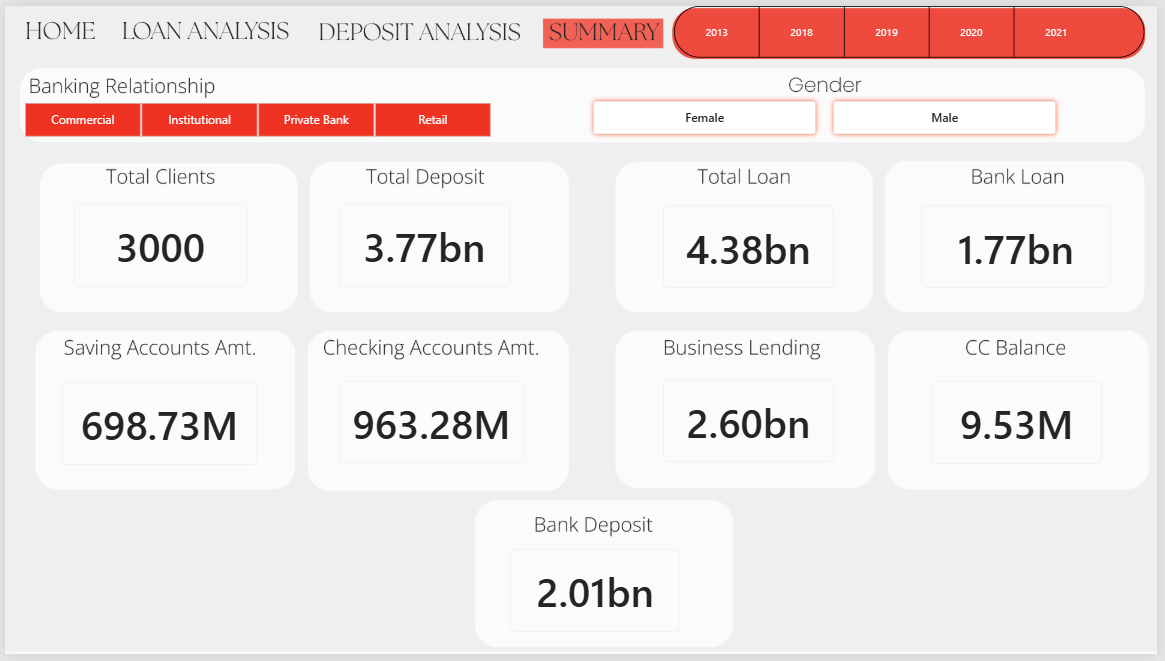

Layout of this report page (visuals, bound fields, positions):
{"tool":"powerbi","page":{"name":"Summary","canvas":[1920,1080],"ordinal":3},"visuals":[{"type":"card","fields":{"Values":["CountNonNull(banking_case customer.Name)"]},"box":[113.9,330.6,288.9,138.9],"z":0},{"type":"card","fields":{"Values":["banking_case customer.total deposit"]},"box":[558.3,330.6,283.3,137.5],"z":1},{"type":"card","fields":{"Values":["banking_case customer.tatal loan"]},"box":[1097.2,333.3,283.3,137.5],"z":2},{"type":"card","fields":{"Values":["Sum(banking_case customer.Business Lending)"]},"box":[1097.2,622.2,283.3,137.5],"z":3},{"type":"card","fields":{"Values":["Sum(banking_case customer.Credit Card Balance)"]},"box":[1544.4,625,282.5,137.5],"z":4},{"type":"card","fields":{"Values":["Sum(banking_case customer.Bank Loans)"]},"box":[1527.8,333.3,315,137.5],"z":5},{"type":"card","fields":{"Values":["Sum(banking_case customer.Saving Accounts)"]},"box":[94.4,627.8,325,136.4],"z":6},{"type":"card","fields":{"Values":["Sum(banking_case customer.Checking Accounts)"]},"box":[558.3,625,306.8,136.4],"z":7},{"type":"card","fields":{"Values":["Sum(banking_case customer.Bank Deposits)"]},"box":[841.7,905.6,282.5,137.5],"z":8},{"type":"advancedSlicerVisual","fields":{"Values":["banking_case customer.GenderId"]},"box":[970.5,147.7,793.2,77.3],"z":9},{"type":"advancedSlicerVisual","fields":{"Values":["banking_case customer.Year of Joining"]},"box":[1115.9,0,786.4,86.4],"z":10},{"type":"slicer","fields":{"Values":["banking_case customer.BRId"]},"box":[13.6,159.1,815.9,59.1],"z":11},{"type":"actionButton","box":[20,0,145.5,86.4],"z":12},{"type":"actionButton","box":[177.3,0,320.5,86.4],"z":13},{"type":"actionButton","box":[529.5,0,359.1,86.4],"z":14}]}

Visuals, with their boxes in screenshot pixels (x1, y1, x2, y2), scaled from the page's 1920x1080 canvas onto the 1165x661 screenshot:
card - CountNonNull(banking_case customer.Name): crop(69, 202, 244, 287)
card - banking_case customer.total deposit: crop(339, 202, 511, 286)
card - banking_case customer.tatal loan: crop(666, 204, 838, 288)
card - Sum(banking_case customer.Business Lending): crop(666, 381, 838, 465)
card - Sum(banking_case customer.Credit Card Balance): crop(937, 383, 1109, 467)
card - Sum(banking_case customer.Bank Loans): crop(927, 204, 1118, 288)
card - Sum(banking_case customer.Saving Accounts): crop(57, 384, 254, 468)
card - Sum(banking_case customer.Checking Accounts): crop(339, 383, 525, 466)
card - Sum(banking_case customer.Bank Deposits): crop(511, 554, 682, 638)
advancedSlicerVisual - banking_case customer.GenderId: crop(589, 90, 1070, 138)
advancedSlicerVisual - banking_case customer.Year of Joining: crop(677, 0, 1154, 53)
slicer - banking_case customer.BRId: crop(8, 97, 503, 134)
actionButton: crop(12, 0, 100, 53)
actionButton: crop(108, 0, 302, 53)
actionButton: crop(321, 0, 539, 53)
